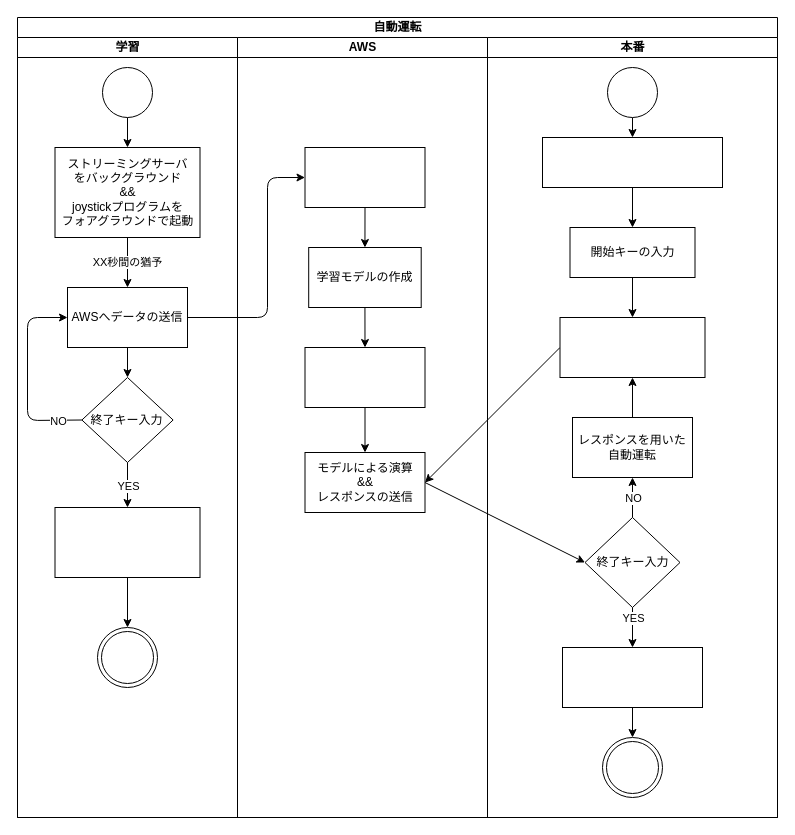
Image size: 795x835. Some labels were removed from this diagram. Here are the shapes that lost their labels. From the top down, the centre of each, then its label:
At (x=364, y=177): "データの保存".
At (x=632, y=162): "本番用プログラムを フォアグラウンドで起動".
At (x=632, y=347): "測定データを用いた APIへのリクエスト".
At (x=364, y=377): "APIエンドポイント の立ち上げ".
At (x=127, y=542): "ストリーミング サーバプロセスをkill && joystickプログラムの終了".
At (x=632, y=677): "本番用プログラム終了".
